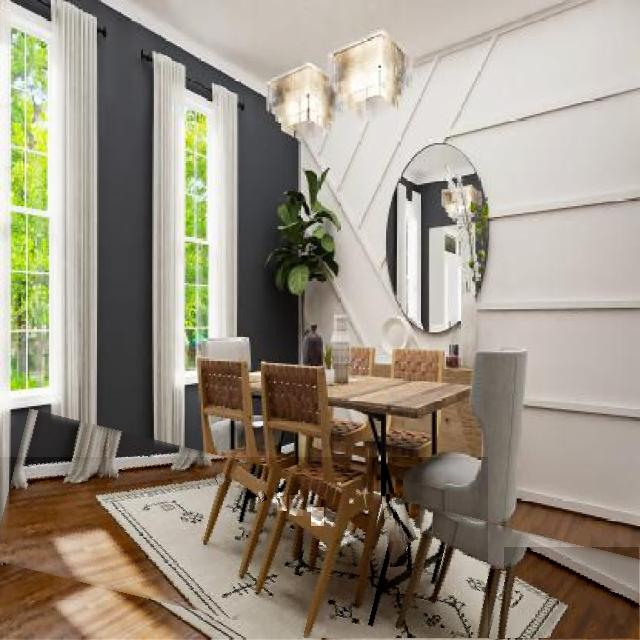floor: (0, 457, 488, 639), (505, 548, 639, 639), (383, 495, 407, 567), (488, 570, 505, 640), (390, 501, 417, 541), (421, 511, 433, 534), (290, 496, 303, 516), (311, 507, 324, 526), (215, 472, 226, 486), (362, 488, 368, 512), (277, 497, 287, 511), (259, 491, 263, 502), (349, 498, 354, 504)
